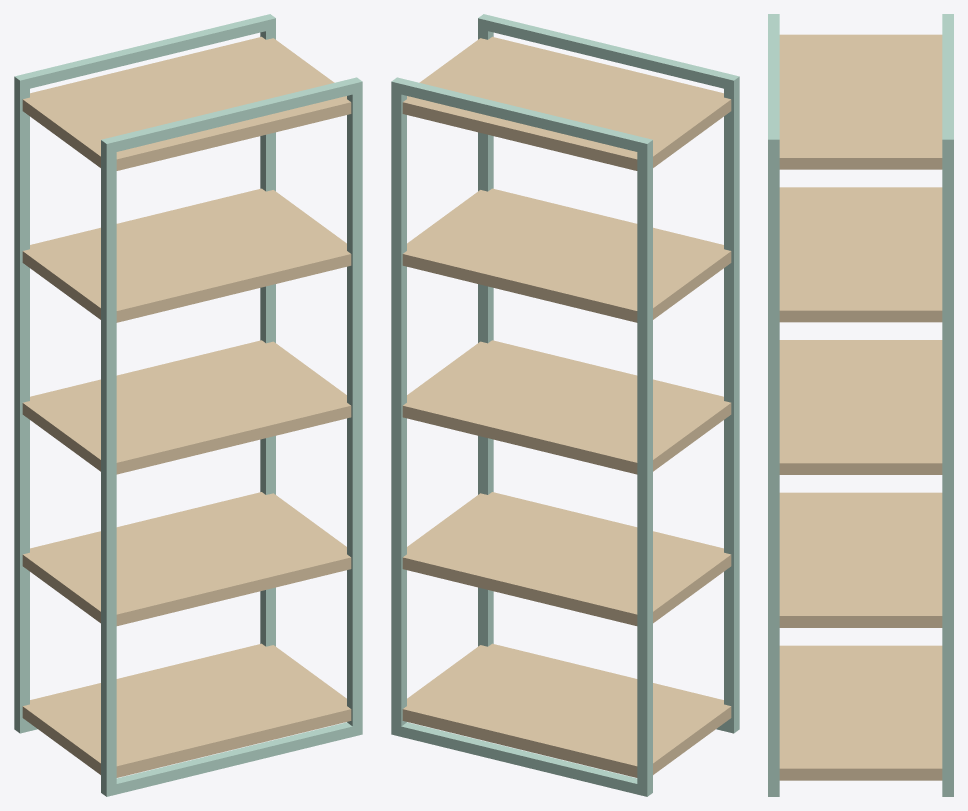
Rendered from lyra-mint.glb.
3 views of the same model, side by side, from view 1: azimuth 30°, elevation 25°; view 2: azimuth 150°, elevation 25°; view 3: azimuth 270°, elevation 25° (orthographic).
Bounding box in the file's own units: 0.64 × 1.56 × 0.4.
